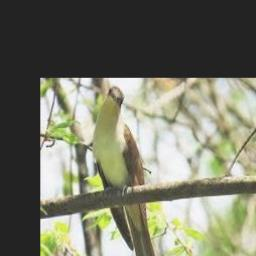Cuckoo: (93, 86, 162, 256)
